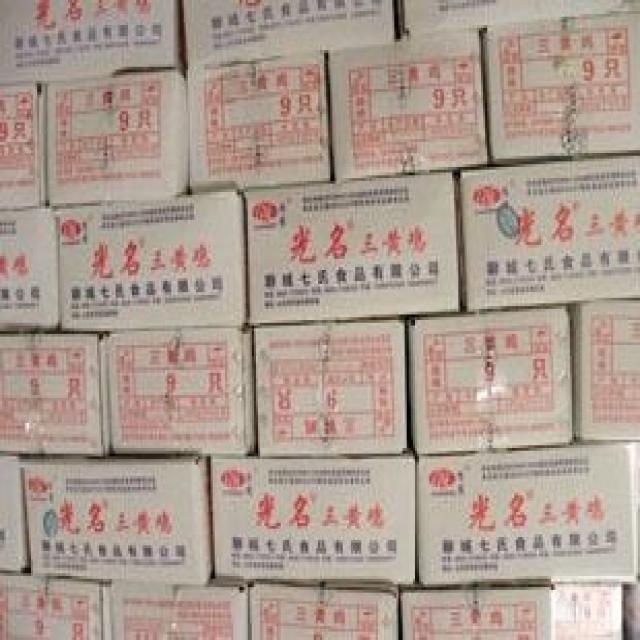box: (246, 171, 464, 327), (418, 440, 638, 586), (209, 442, 417, 586), (459, 156, 638, 312), (56, 192, 246, 330), (323, 32, 487, 184), (405, 305, 573, 453), (23, 455, 213, 584), (482, 14, 638, 167), (251, 320, 409, 457), (183, 55, 331, 193), (42, 71, 187, 208), (101, 329, 252, 457), (0, 0, 184, 86), (180, 0, 399, 70), (0, 334, 104, 457), (571, 298, 638, 440), (395, 0, 638, 38), (248, 582, 401, 637), (109, 580, 250, 637), (401, 586, 554, 637), (0, 209, 60, 331), (0, 82, 44, 207), (553, 585, 623, 637), (0, 454, 28, 577), (623, 582, 638, 637)
